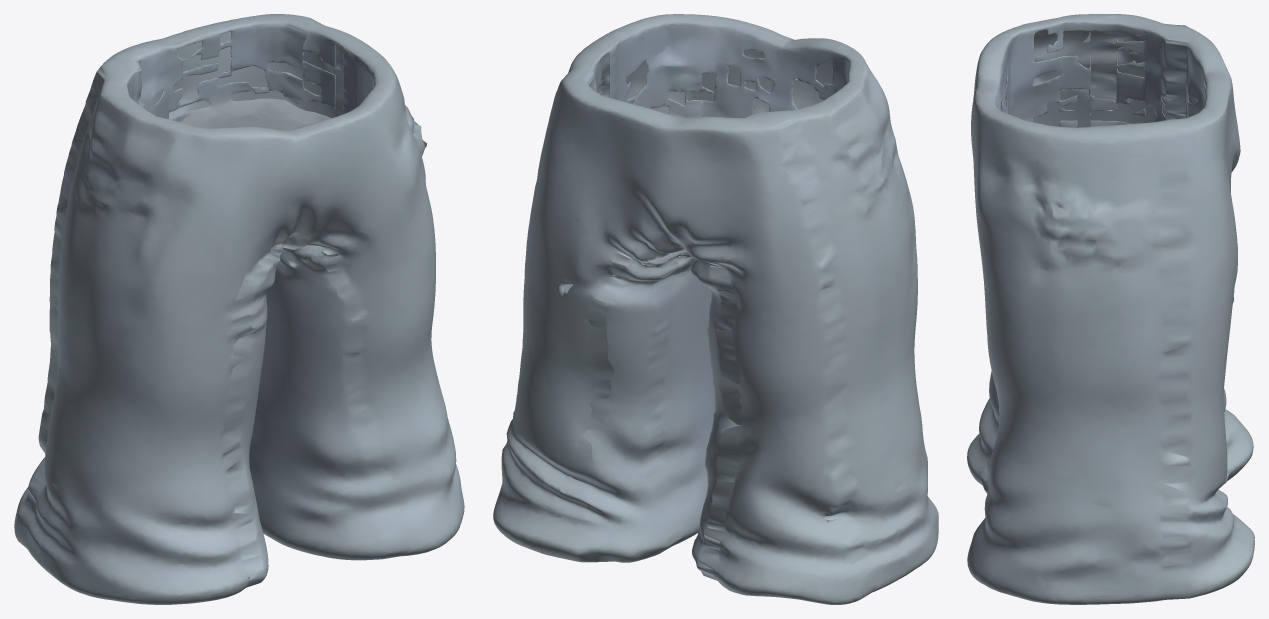
The model's file is Hirono Girl Pants.glb.
3 renders of one model, left to right at view 1: azimuth 30°, elevation 25°; view 2: azimuth 150°, elevation 25°; view 3: azimuth 270°, elevation 25°, orthographic. The views are drawn at different scales.
Parts seen in each view (by area): view 1: pants; view 2: pants; view 3: pants.
Part boxes in pixels (left/top/right/bottom): pants: left=14, top=14, right=464, bottom=604; pants: left=493, top=14, right=938, bottom=604; pants: left=967, top=14, right=1254, bottom=604.
Bounding box in the file's own units: 0.3232 × 0.3681 × 0.2149.
Materials: 1 (1 with a texture image).
